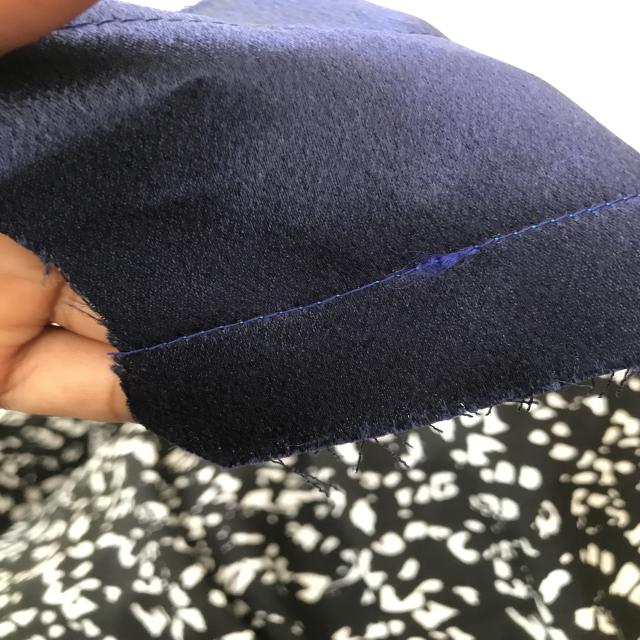good: (169, 283, 357, 347), (518, 197, 612, 222)
